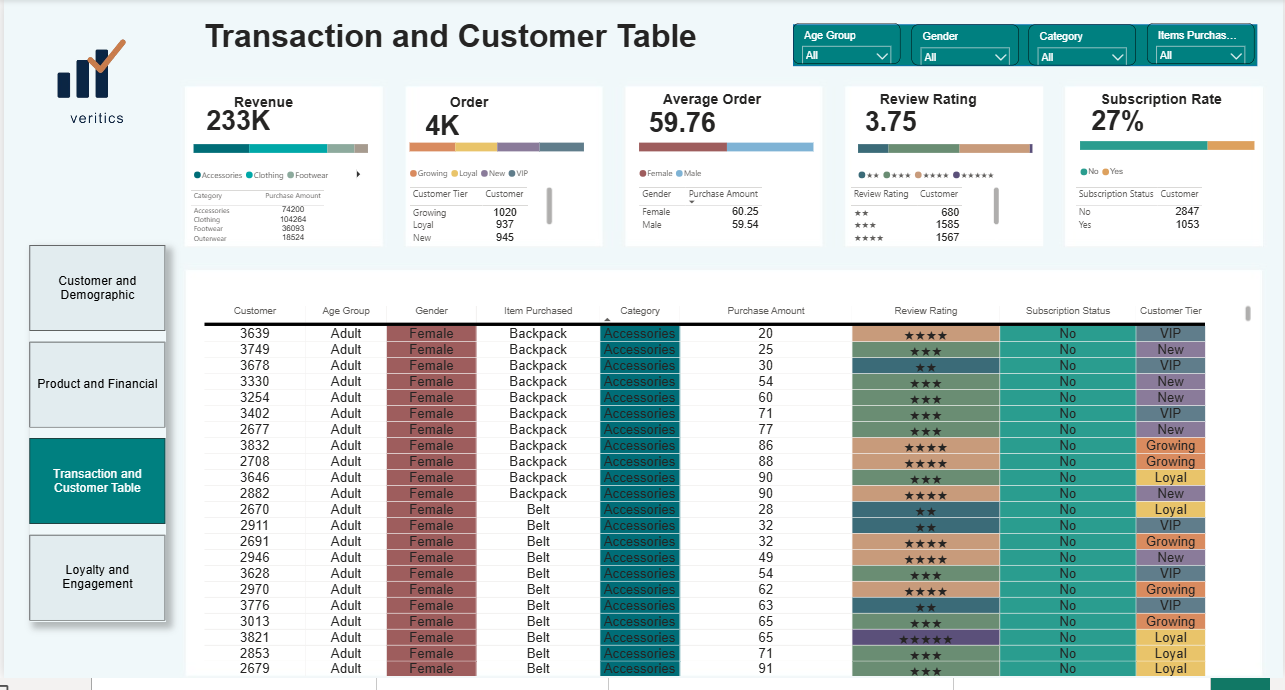

The dashboard page shown, as its layout file describes it:
{"tool":"powerbi","page":{"name":"Transaction and Customer Table","canvas":[1920,1020],"ordinal":2},"visuals":[{"type":"tableEx","fields":{"Values":["Orders.customer_id","Orders.age_group","Orders.gender","Orders.item_purchased","Orders.category","Orders.purchase_amount","Orders.review_rating_stars","Orders.subscription_status","Orders.customer_value_tier"]},"box":[295.3,454.3,1583.1,565.6],"z":0},{"type":"textbox","box":[295.3,22.7,849.5,65.9],"z":1000},{"type":"image","box":[22.7,15.9,236.2,202.1],"z":2000},{"type":"cardVisual","fields":{"Data":["DAX.Total Revenue"]},"box":[274.8,134,168.1,95.4],"z":4000},{"type":"cardVisual","fields":{"Data":["DAX.Total Orders"]},"box":[604.2,136.3,163.5,106.8],"z":5000},{"type":"cardVisual","fields":{"Data":["DAX.Avg Order Value"]},"box":[940.3,136.3,177.2,95.4],"z":6000},{"type":"cardVisual","fields":{"Data":["DAX.Avg Review Rating"]},"box":[1265.1,138.5,136.3,90.9],"z":7000},{"type":"cardVisual","fields":{"Data":["DAX.Subscription Rate %"]},"box":[1603.5,134,143.1,95.4],"z":8000},{"type":"textbox","box":[274.9,137.5,229.8,56.3],"z":9000},{"type":"hundredPercentStackedBarChart","fields":{"Y":["Sum(Orders.purchase_amount)"],"Series":["Orders.category"]},"box":[279.4,186.2,272.6,95.4],"z":10000},{"type":"pivotTable","fields":{"Rows":["Orders.category"],"Values":["Sum(Orders.purchase_amount)"]},"box":[274.8,281.6,229.4,90.9],"z":11000},{"type":"hundredPercentStackedBarChart","fields":{"Series":["Orders.customer_value_tier"],"Y":["CountNonNull(Orders.customer_id)"]},"box":[604.2,184,272.6,95.4],"z":12000},{"type":"pivotTable","fields":{"Rows":["Orders.customer_value_tier"],"Values":["CountNonNull(Orders.customer_id)"]},"box":[604.2,277.1,224.9,90.9],"z":13000},{"type":"textbox","box":[585.9,137.5,225.3,56.3],"z":14000},{"type":"hundredPercentStackedBarChart","fields":{"Y":["Avg(Orders.purchase_amount)"],"Series":["Orders.gender"]},"box":[949.4,184,272.6,95.4],"z":15000},{"type":"pivotTable","fields":{"Rows":["Orders.gender"],"Values":["Avg(Orders.purchase_amount)"]},"box":[949.4,277.1,211.2,90.9],"z":16000},{"type":"hundredPercentStackedBarChart","fields":{"Series":["Orders.review_rating_stars"],"Y":["CountNonNull(Orders.customer_id)"]},"box":[1278.7,186.2,272.6,95.4],"z":17000},{"type":"pivotTable","fields":{"Rows":["Orders.review_rating_stars"],"Values":["CountNonNull(Orders.customer_id)"]},"box":[1267.4,277.1,233.9,90.9],"z":18000},{"type":"hundredPercentStackedBarChart","fields":{"Y":["CountNonNull(Orders.customer_id)"],"Series":["Orders.subscription_status"]},"box":[1610.4,181.7,272.6,95.4],"z":19000},{"type":"pivotTable","fields":{"Rows":["Orders.subscription_status"],"Values":["CountNonNull(Orders.customer_id)"]},"box":[1603.5,277.1,224.9,90.9],"z":20000},{"type":"textbox","box":[905.9,132.9,315.5,60.8],"z":21000},{"type":"textbox","box":[1275.4,132.9,232.1,60.8],"z":22000},{"type":"textbox","box":[1541.3,132.9,329,60.8],"z":23000},{"type":"shape","box":[1185,37.5,697.5,62.5],"z":24000},{"type":"slicer","fields":{"Values":["Orders.age_group"]},"box":[1185.6,36.3,161,61.3],"z":25000},{"type":"slicer","fields":{"Values":["Orders.gender"]},"box":[1362.7,38.6,161.3,61.3],"z":26000},{"type":"slicer","fields":{"Values":["Orders.category"]},"box":[1540,38.6,161,61.3],"z":27000},{"type":"slicer","fields":{"Values":["Orders.item_purchased"]},"box":[1717.1,36.3,161,61.3],"z":28000},{"type":"pageNavigator","box":[38.6,369.3,205,566.2],"z":28001}]}

Visuals, with their boxes on the page's 1920x1020 design canvas (x1, y1, x2, y2). These are canvas units, not pixel positions in the 1285x690 screenshot, which may show the page scaled, cropped or inside an application window:
tableEx - Orders.customer_id x Orders.age_group: 295:454:1878:1020
textbox: 295:23:1145:89
image: 23:16:259:218
cardVisual - DAX.Total Revenue: 275:134:443:229
cardVisual - DAX.Total Orders: 604:136:768:243
cardVisual - DAX.Avg Order Value: 940:136:1118:232
cardVisual - DAX.Avg Review Rating: 1265:138:1401:229
cardVisual - DAX.Subscription Rate %: 1604:134:1747:229
textbox: 275:138:505:194
hundredPercentStackedBarChart - Sum(Orders.purchase_amount) x Orders.category: 279:186:552:282
pivotTable - Orders.category x Sum(Orders.purchase_amount): 275:282:504:372
hundredPercentStackedBarChart - Orders.customer_value_tier x CountNonNull(Orders.customer_id): 604:184:877:279
pivotTable - Orders.customer_value_tier x CountNonNull(Orders.customer_id): 604:277:829:368
textbox: 586:138:811:194
hundredPercentStackedBarChart - Avg(Orders.purchase_amount) x Orders.gender: 949:184:1222:279
pivotTable - Orders.gender x Avg(Orders.purchase_amount): 949:277:1161:368
hundredPercentStackedBarChart - Orders.review_rating_stars x CountNonNull(Orders.customer_id): 1279:186:1551:282
pivotTable - Orders.review_rating_stars x CountNonNull(Orders.customer_id): 1267:277:1501:368
hundredPercentStackedBarChart - CountNonNull(Orders.customer_id) x Orders.subscription_status: 1610:182:1883:277
pivotTable - Orders.subscription_status x CountNonNull(Orders.customer_id): 1604:277:1828:368
textbox: 906:133:1221:194
textbox: 1275:133:1508:194
textbox: 1541:133:1870:194
shape: 1185:38:1882:100
slicer - Orders.age_group: 1186:36:1347:98
slicer - Orders.gender: 1363:39:1524:100
slicer - Orders.category: 1540:39:1701:100
slicer - Orders.item_purchased: 1717:36:1878:98
pageNavigator: 39:369:244:936
